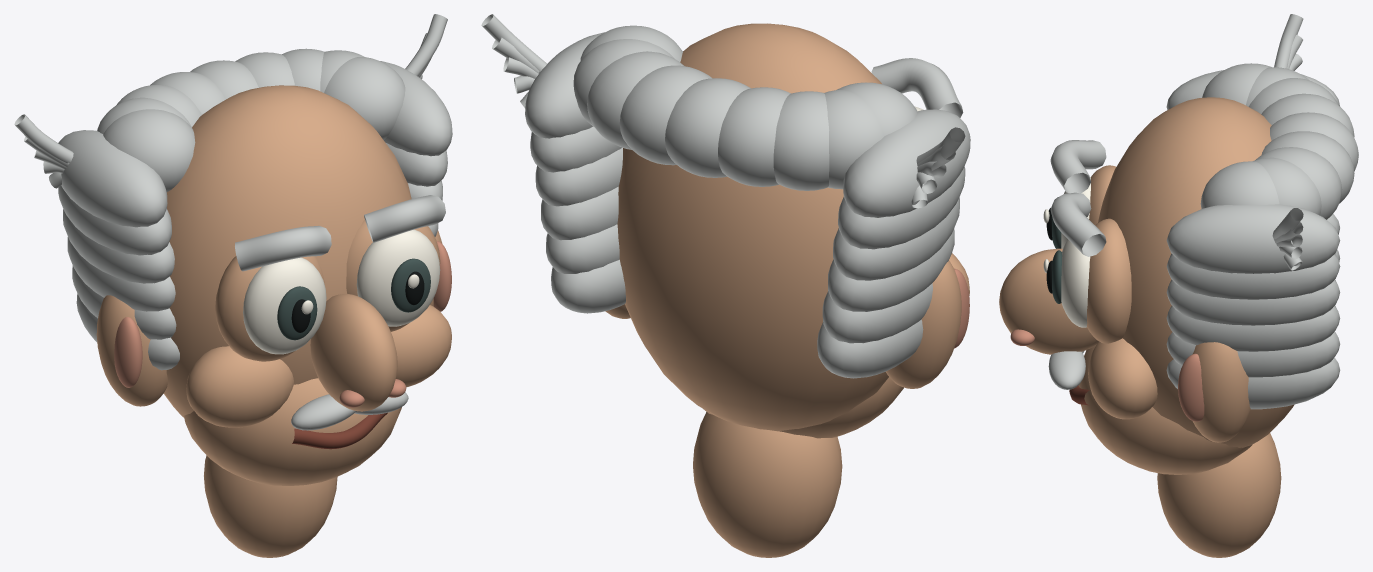
Rendered from maestro-head.glb.
3 renders of one model, left to right at view 1: azimuth 30°, elevation 25°; view 2: azimuth 150°, elevation 25°; view 3: azimuth 270°, elevation 25°, orthographic. The views are drawn at different scales.
Parts seen in each view (by area): view 1: Bravo Skin.001, Maestro Silver Hair.001, Bravo Eye White.001, Bravo Cheeks.001, Bravo Iris.001, Bravo Mouth.001, Bravo Pupil.001; view 2: Maestro Silver Hair.001, Bravo Skin.001, Bravo Cheeks.001; view 3: Bravo Skin.001, Maestro Silver Hair.001, Bravo Eye White.001, Bravo Cheeks.001, Bravo Iris.001.
Boxes of the visible parts, x1,y1,x2,y2 form: Bravo Skin.001: [96, 85, 451, 557]; Maestro Silver Hair.001: [14, 14, 452, 430]; Bravo Eye White.001: [243, 229, 440, 354]; Bravo Cheeks.001: [114, 241, 451, 407]; Bravo Iris.001: [277, 258, 430, 340]; Bravo Mouth.001: [292, 412, 387, 449]; Bravo Pupil.001: [291, 271, 424, 332]; Maestro Silver Hair.001: [481, 14, 970, 378]; Bravo Skin.001: [605, 23, 969, 557]; Bravo Cheeks.001: [954, 268, 969, 348]; Bravo Skin.001: [999, 97, 1294, 557]; Maestro Silver Hair.001: [1048, 14, 1358, 409]; Bravo Eye White.001: [1043, 177, 1090, 327]; Bravo Cheeks.001: [1010, 329, 1204, 421]; Bravo Iris.001: [1052, 197, 1062, 303].
Bounding box in the file's own units: 0.4631 × 0.475 × 0.348.
